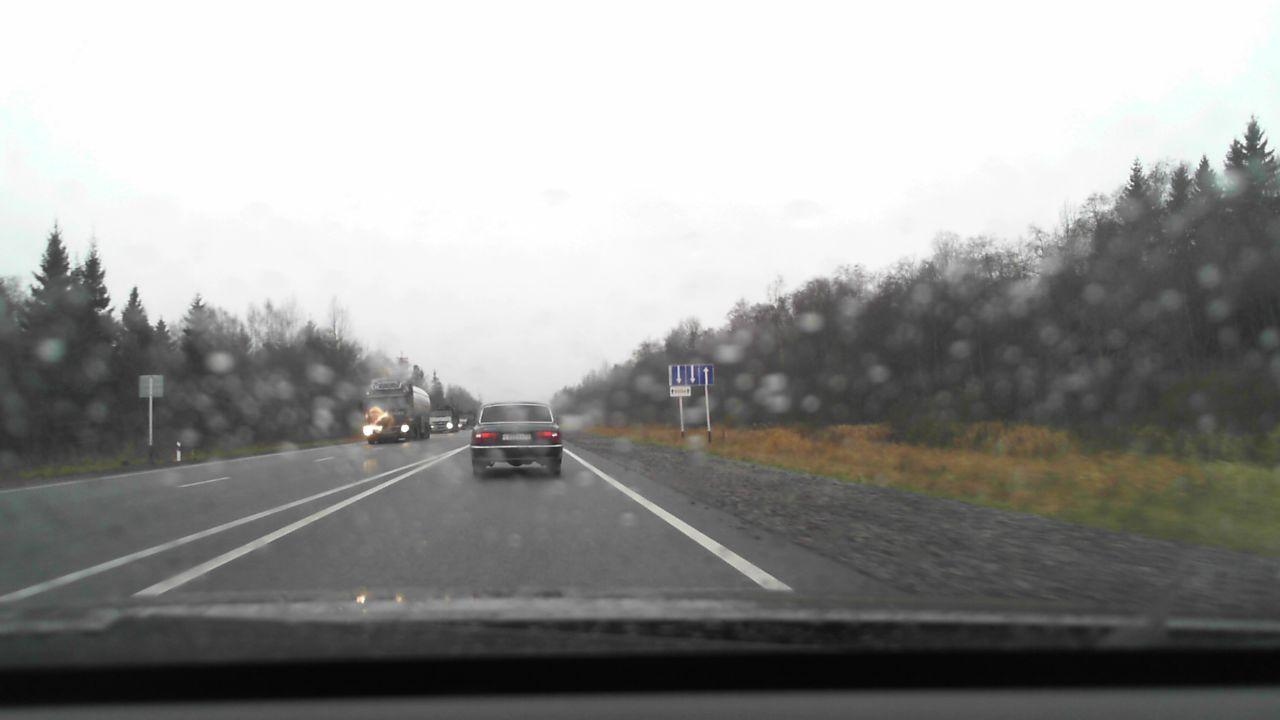5_15_7: (669, 364, 714, 386)
8_2_1: (667, 385, 695, 399)
